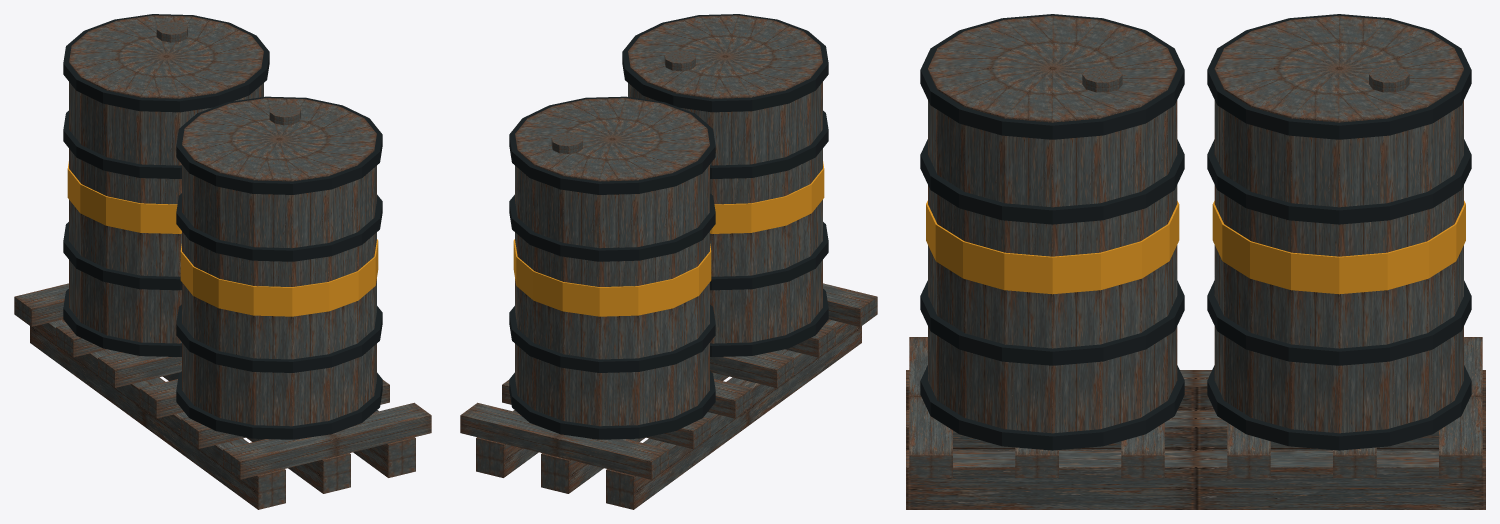
File: DrumPallet.obj
3 views of the same model, side by side, from view 1: azimuth 30°, elevation 25°; view 2: azimuth 150°, elevation 25°; view 3: azimuth 270°, elevation 25° (orthographic). The views are drawn at different scales.
Visible parts, largest first — view 1: DrumPallet; view 2: DrumPallet; view 3: DrumPallet.
Part boxes in pixels (x1=…): DrumPallet: x1=14, y1=14, x2=431, y2=509; DrumPallet: x1=460, y1=14, x2=877, y2=509; DrumPallet: x1=906, y1=14, x2=1485, y2=509.
Size of the model in its own units: 0.9 by 1.42 by 1.86.
4 materials, 2 textured.
